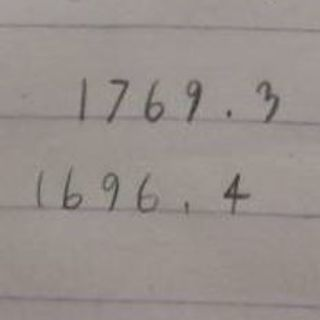.: (223, 107, 236, 121), (183, 200, 192, 211)
1: (78, 74, 88, 123), (35, 169, 46, 210)
3: (254, 80, 282, 124)
4: (221, 171, 252, 215)
6: (136, 173, 160, 215), (142, 80, 165, 123), (62, 165, 83, 210)
7: (105, 78, 130, 124)
9: (182, 79, 203, 122), (100, 171, 121, 211)
